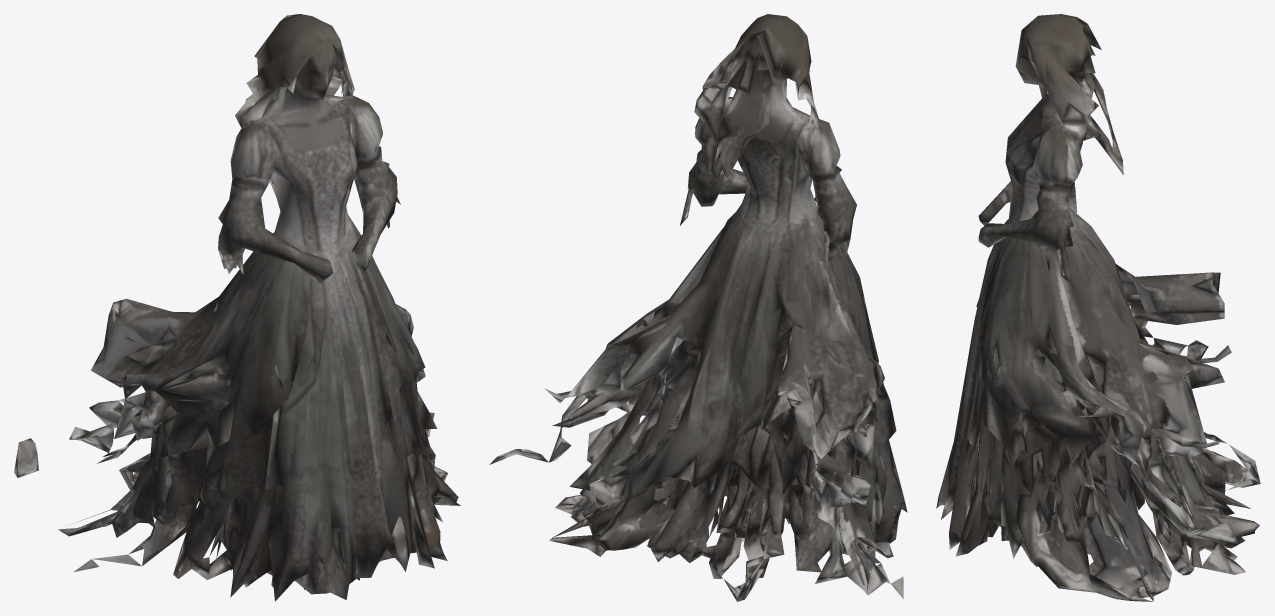
File: VictorianGhost.fbx
3 renders of one model, left to right at view 1: azimuth 30°, elevation 25°; view 2: azimuth 150°, elevation 25°; view 3: azimuth 270°, elevation 25°, orthographic. The views are drawn at different scales.
Visible parts, largest first — view 1: mesh_node; view 2: mesh_node; view 3: mesh_node.
Part boxes in pixels (x1,y1,x2,y2): mesh_node: (14, 14, 460, 601); mesh_node: (489, 14, 907, 601); mesh_node: (936, 14, 1260, 601).
Bounding box in the file's own units: 1.57 × 1.96 × 1.12.
